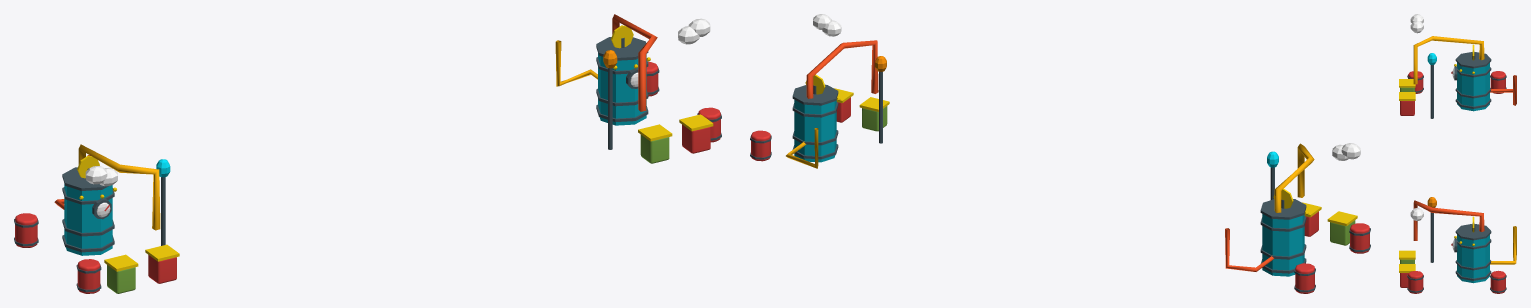
File: busqueda_fabrica_r5.glb
The picture shows the model from 3 angles, left to right: view 1: azimuth 30°, elevation 25°; view 2: azimuth 150°, elevation 25°; view 3: azimuth 270°, elevation 25°; orthographic projection. The views are drawn at different scales.
Visible parts, largest first — view 1: Esmalte turquesa, Acero, Barril rojo, Latón, Tubería amarilla, Vapor, Caja lima, Tubería bermellón; view 2: Esmalte turquesa, Acero, Barril rojo, Tubería bermellón, Latón, Tubería amarilla, Caja lima, Vapor; view 3: Esmalte turquesa, Acero, Barril rojo, Tubería amarilla, Tubería bermellón, Latón, Vapor, Caja lima, Baliza.
Boxes of the visible parts, <box> form: Esmalte turquesa: <box>64,53,646,255</box>; Acero: <box>14,37,721,292</box>; Barril rojo: <box>15,61,720,293</box>; Latón: <box>77,25,713,271</box>; Tubería amarilla: <box>78,40,597,230</box>; Vapor: <box>85,18,710,217</box>; Caja lima: <box>107,134,669,293</box>; Tubería bermellón: <box>54,14,657,209</box>; Esmalte turquesa: <box>794,99,1304,276</box>; Acero: <box>750,72,1370,292</box>; Barril rojo: <box>751,97,1369,293</box>; Tubería bermellón: <box>806,40,1274,271</box>; Latón: <box>805,74,1357,226</box>; Tubería amarilla: <box>786,128,1314,212</box>; Caja lima: <box>862,106,1355,245</box>; Vapor: <box>813,14,1360,160</box>; Esmalte turquesa: <box>1457,62,1489,283</box>; Acero: <box>1407,52,1506,292</box>; Barril rojo: <box>1400,71,1505,293</box>; Tubería amarilla: <box>1413,36,1516,264</box>; Tubería bermellón: <box>1413,75,1516,240</box>; Latón: <box>1399,44,1474,272</box>; Vapor: <box>1410,14,1454,250</box>; Caja lima: <box>1400,87,1414,263</box>; Baliza: <box>1427,53,1436,64</box>.
Size of the model in its own units: 29.62 by 5.31 by 7.12.
